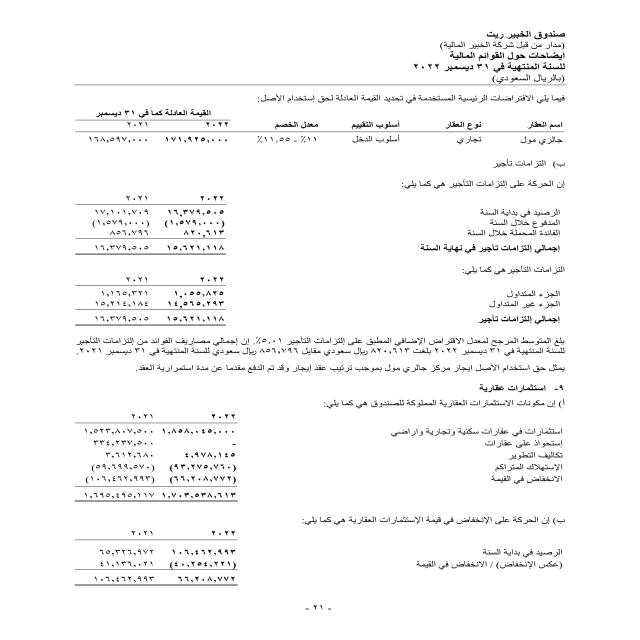notes: (413, 48, 572, 64)
table: (48, 182, 242, 332), (50, 106, 583, 158), (55, 407, 254, 503), (39, 522, 248, 604)
